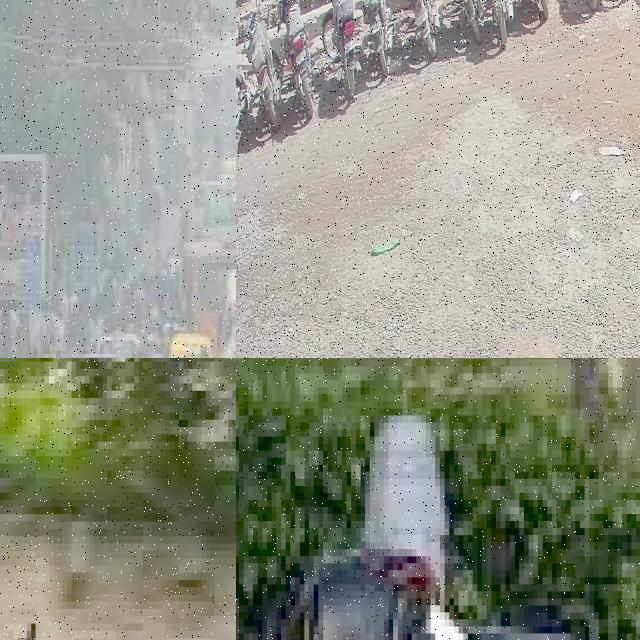bike: (290, 457, 640, 640), (243, 0, 282, 127), (277, 0, 319, 116), (320, 0, 361, 96), (353, 0, 395, 75), (396, 0, 440, 57), (441, 0, 483, 44), (481, 0, 514, 45)
